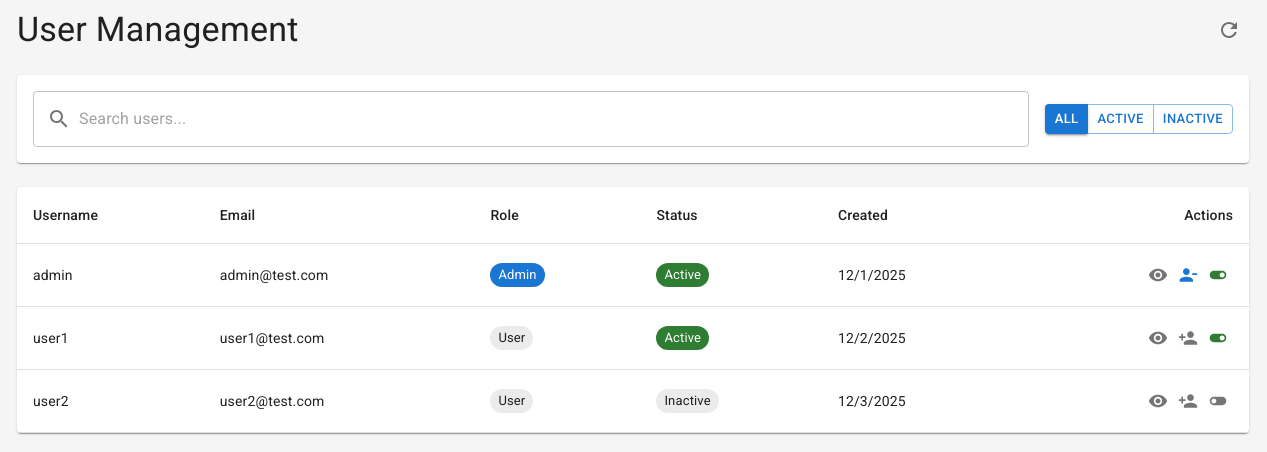
Test: UsersManagement Page - TDD (Rebuilt with Admin V1 API) › 3. Search & Filtering › should filter by active status
The width and height of the screenshot is (1267, 452).
Expected: the text "user2" is shown, [17,370,204,432]
Click "Active" filter button
Click the button "Active" at {"x": 1121, "y": 119}, box [1087,104,1154,134]
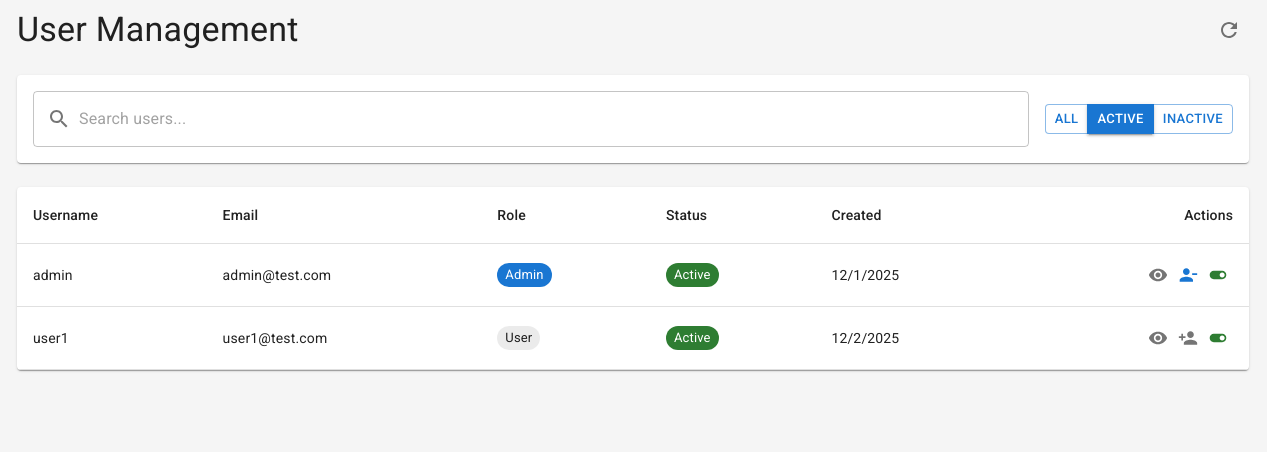
Expected: the text "user1" is shown, [17,306,207,370]
Expected: the text "user2" is gone
